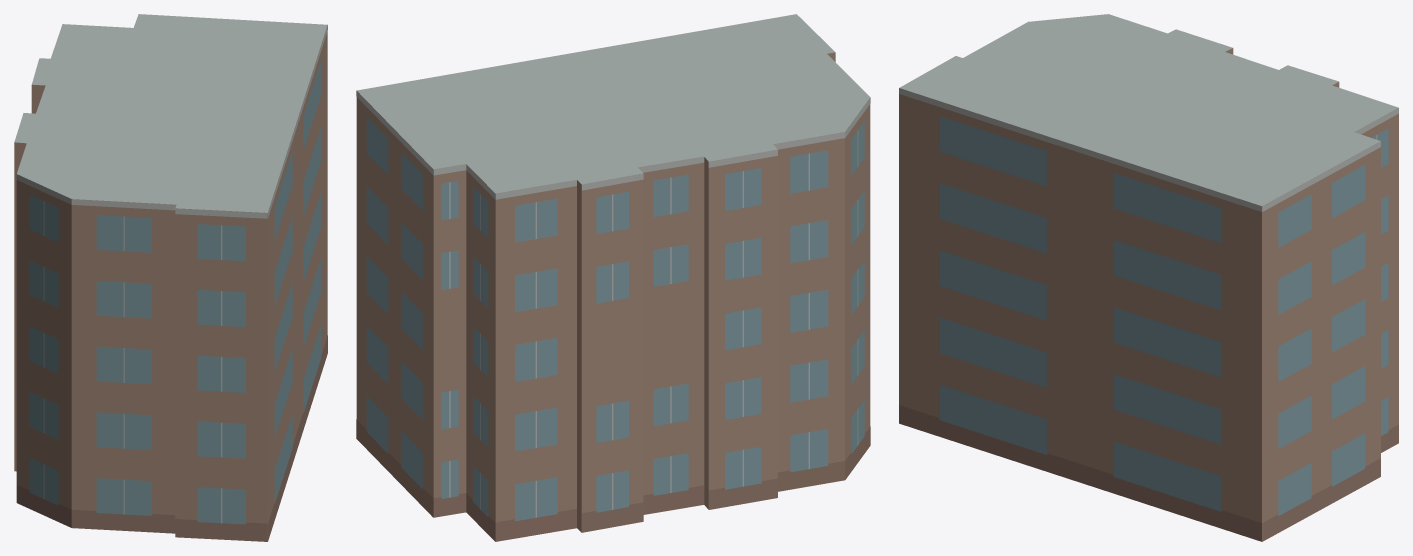
Rendered from survey-upis-32668311.glb.
3 renders of one model, left to right at view 1: azimuth 30°, elevation 25°; view 2: azimuth 150°, elevation 25°; view 3: azimuth 270°, elevation 25°, orthographic. The views are drawn at different scales.
Parts seen in each view (by area): view 1: survey-upis-32668311.tmp; view 2: survey-upis-32668311.tmp; view 3: survey-upis-32668311.tmp.
Part boxes in pixels (x1=…): survey-upis-32668311.tmp: x1=14, y1=14, x2=327, y2=541; survey-upis-32668311.tmp: x1=356, y1=14, x2=870, y2=541; survey-upis-32668311.tmp: x1=899, y1=14, x2=1398, y2=541.
Size of the model in its own units: 17.04 by 13.86 by 18.71.
